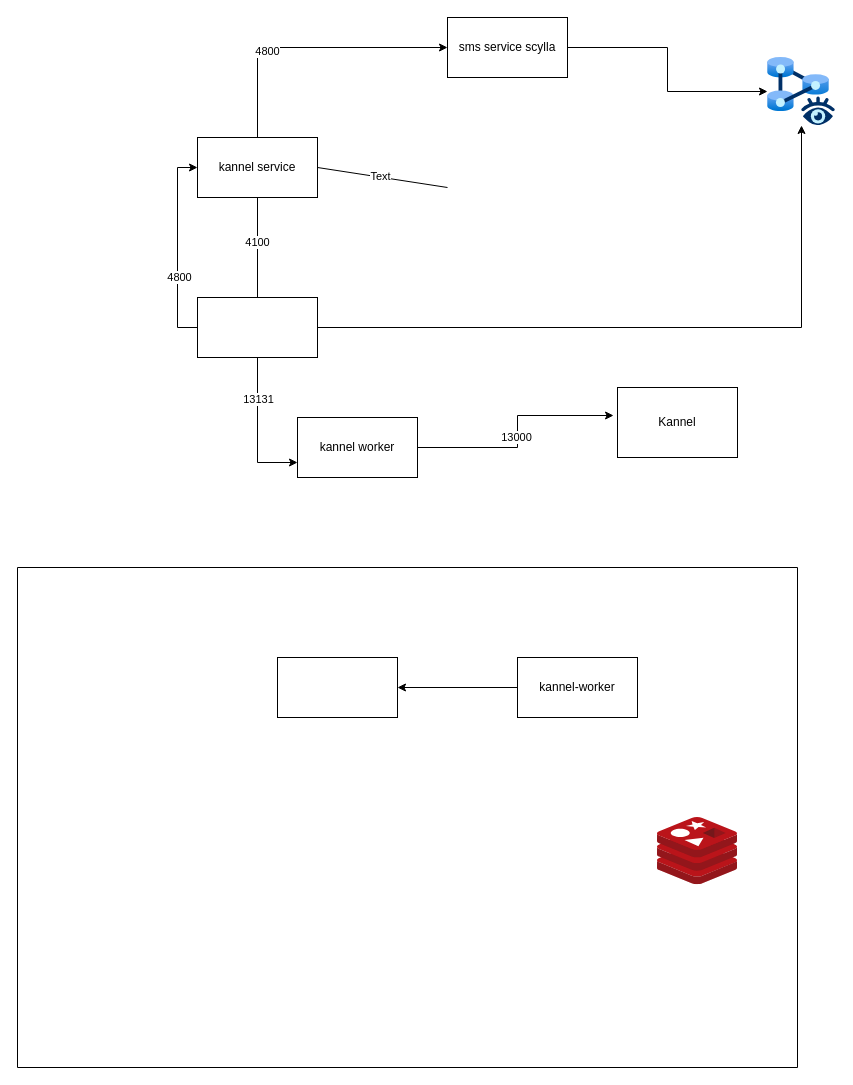
The diagram is 853 pixels wide and 1085 high, and some of its shapes have lost their labels. The box of each missing label's shape, as (x1, y1, x2, y2) in pixels:
sms messaging service: (196, 296, 318, 358)
tele-sms-server: (276, 656, 398, 718)
